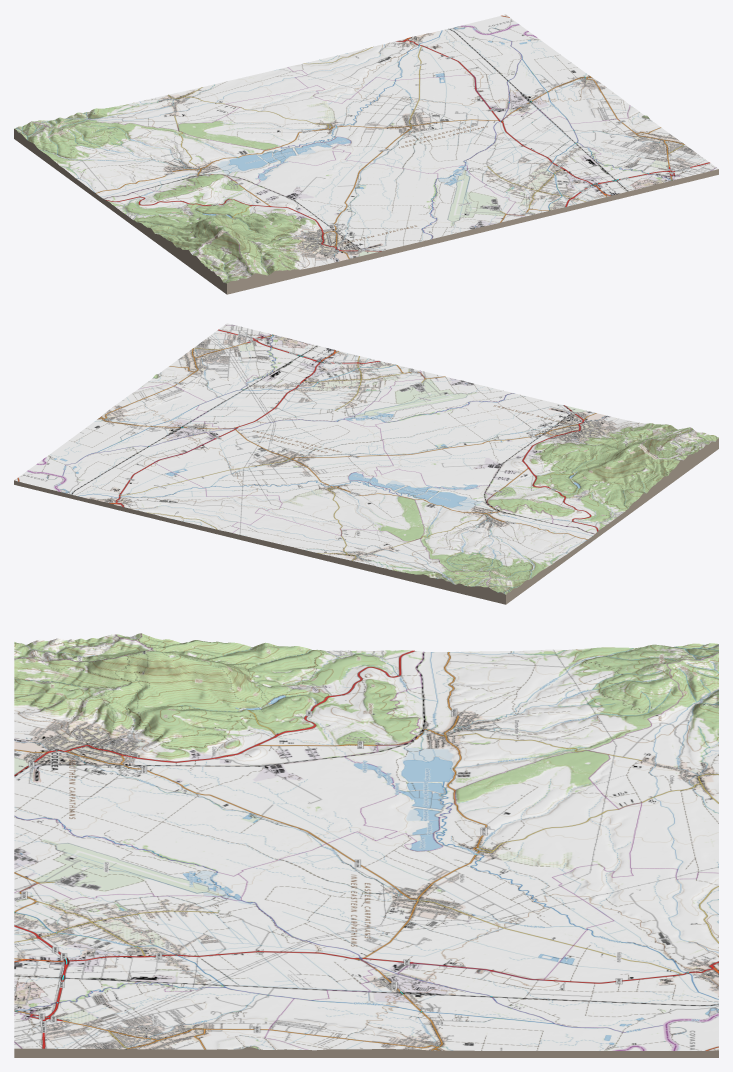
3 renders of one model, top to bottom at view 1: azimuth 30°, elevation 25°; view 2: azimuth 150°, elevation 25°; view 3: azimuth 270°, elevation 25°, orthographic. The views are drawn at different scales.
Visible parts, largest first — view 1: BV50-D4 Codlea; view 2: BV50-D4 Codlea; view 3: BV50-D4 Codlea.
Boxes of the visible parts, x1,y1,x2,y2 form: BV50-D4 Codlea: (14, 14, 718, 294); BV50-D4 Codlea: (14, 323, 718, 604); BV50-D4 Codlea: (14, 633, 718, 1057).
Size of the model in its own units: 20000 by 969 by 15004.
Materials: 4 (1 with a texture image).
